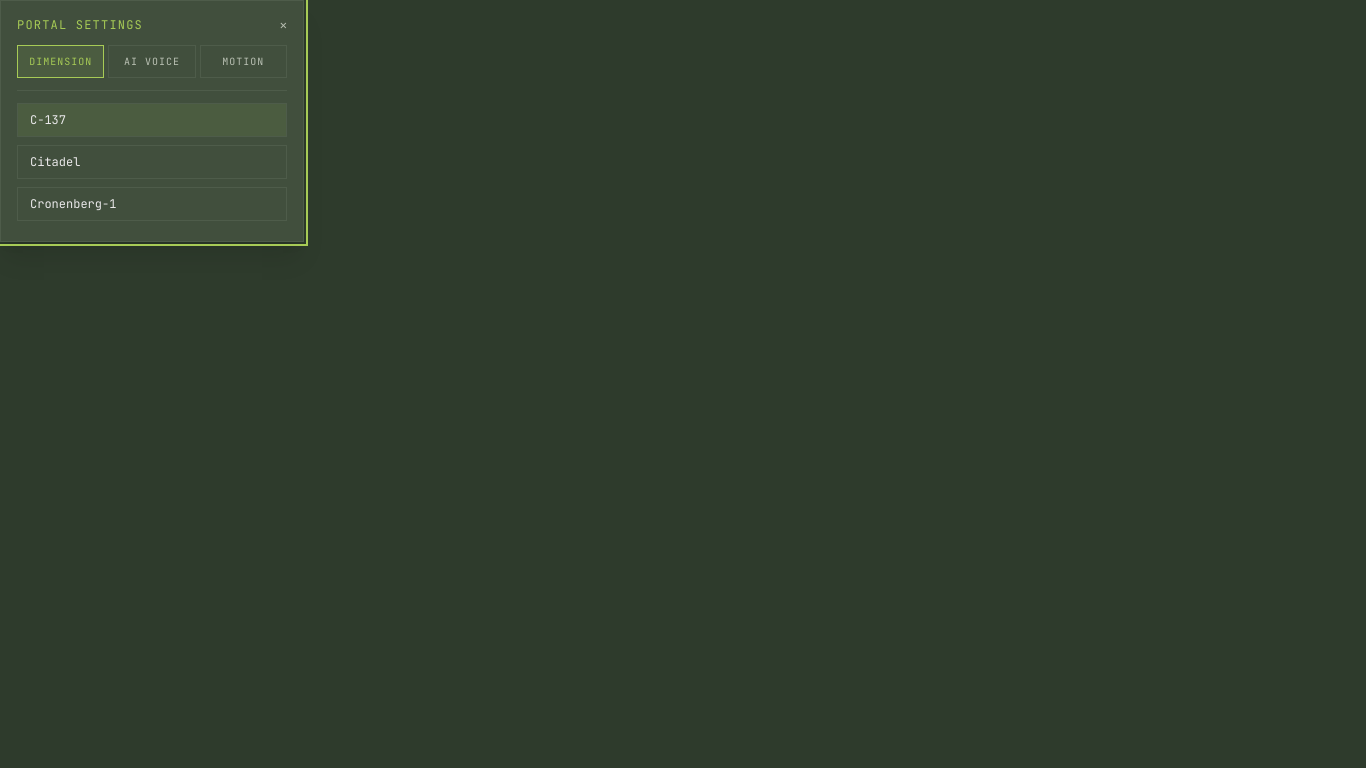
SettingsPanel › cycles reduced motion through its three states
The width and height of the screenshot is (1366, 768).
Step 1. Click the tab "MOTION" → (243, 62), box [200,45,287,78]
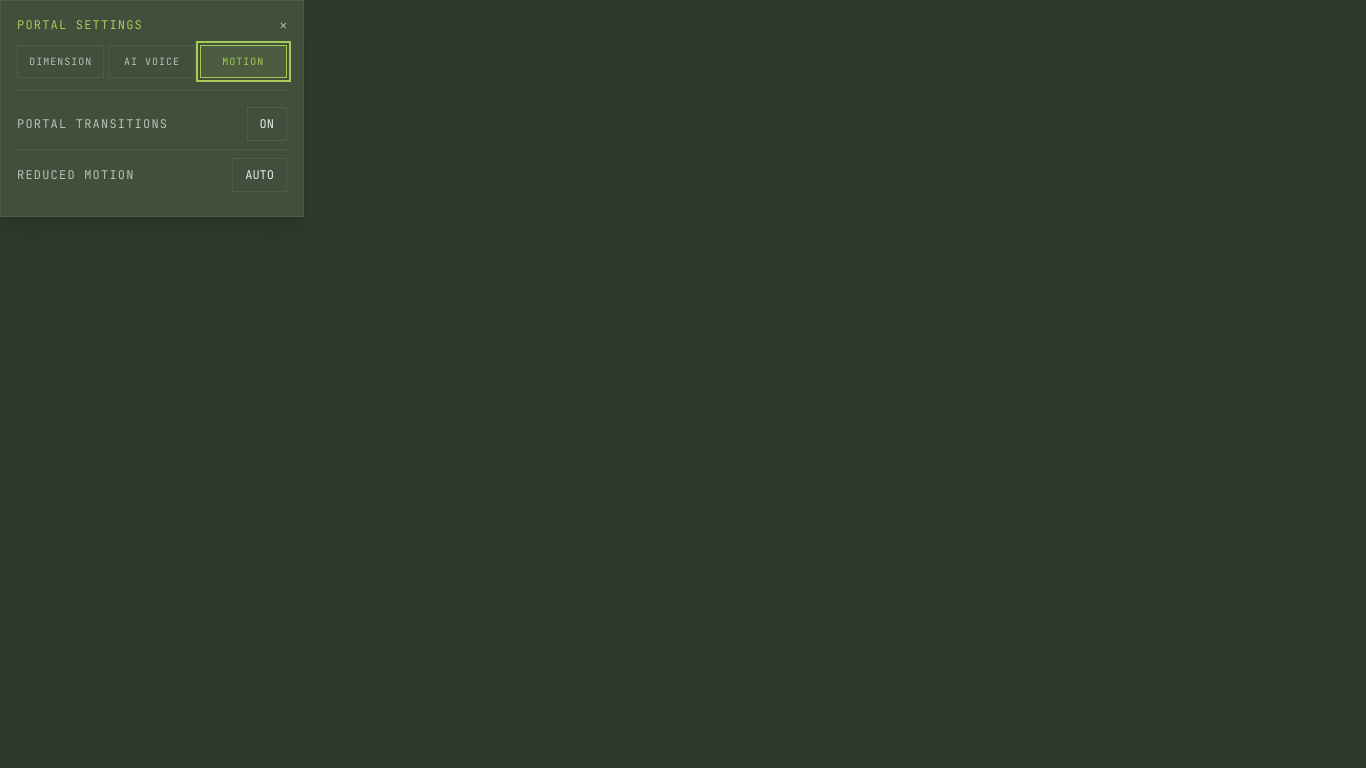
Expected: the button with aria-label "REDUCED MOTION" reads "AUTO"
Step 2. Click the button with aria-label "REDUCED MOTION" → (260, 175), box [232,158,287,192]
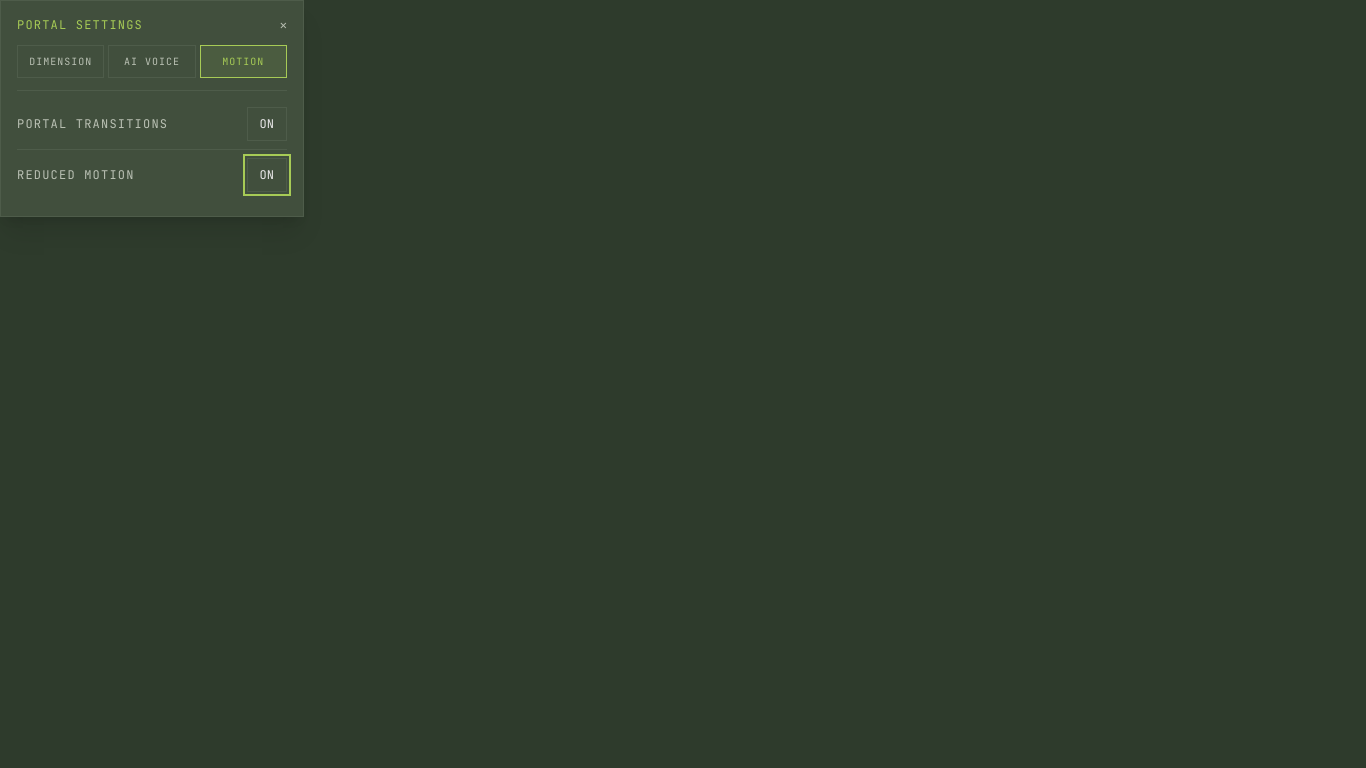
Expected: the button with aria-label "REDUCED MOTION" reads "ON"
Step 3. Click the button with aria-label "REDUCED MOTION" → (267, 175), box [247,158,287,192]
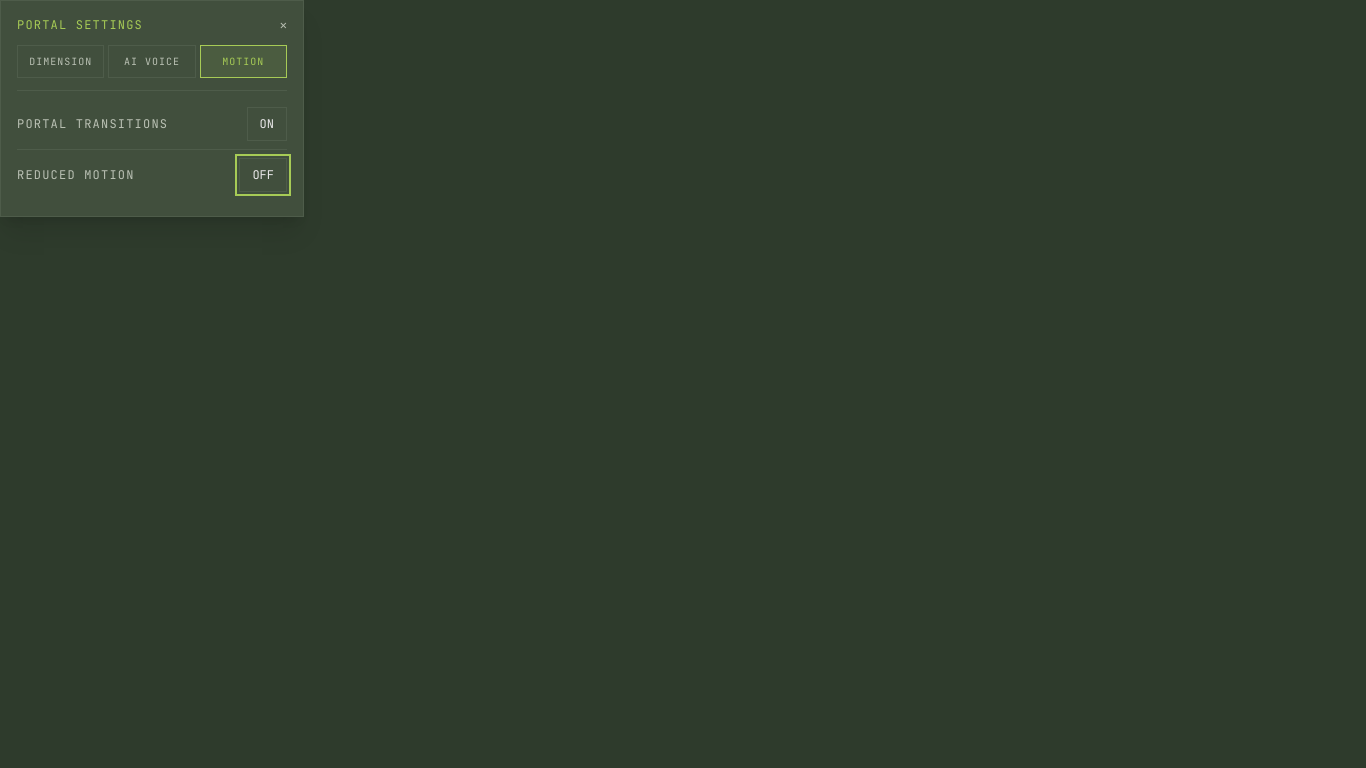
Expected: the button with aria-label "REDUCED MOTION" reads "OFF"
Step 4. Click the button with aria-label "REDUCED MOTION" → (263, 175), box [239,158,287,192]
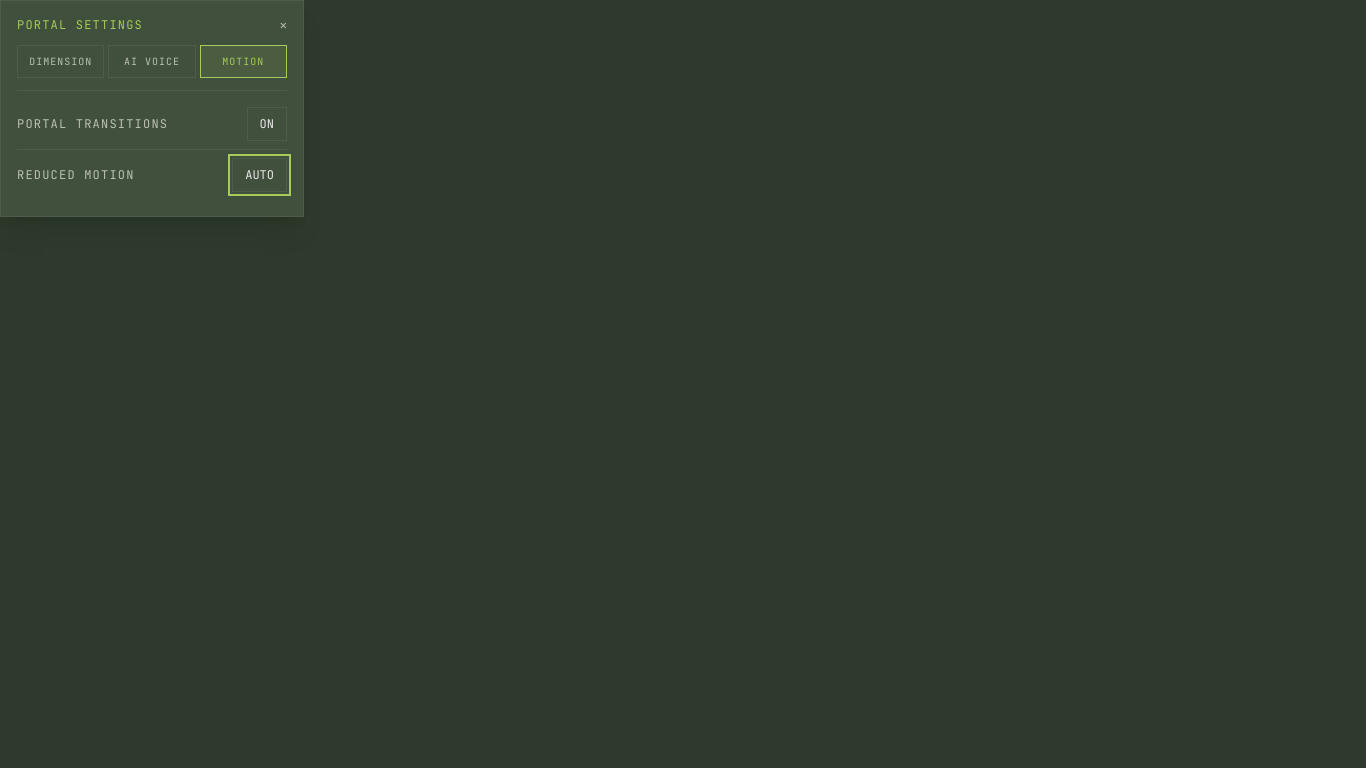
Expected: the button with aria-label "REDUCED MOTION" reads "AUTO", [232,158,287,192]
